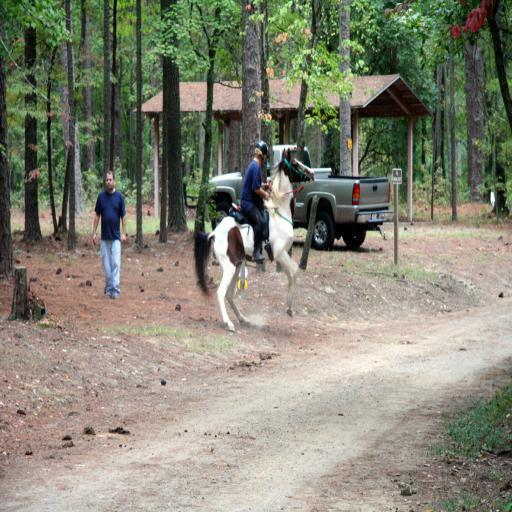horse: (192, 146, 317, 332)
